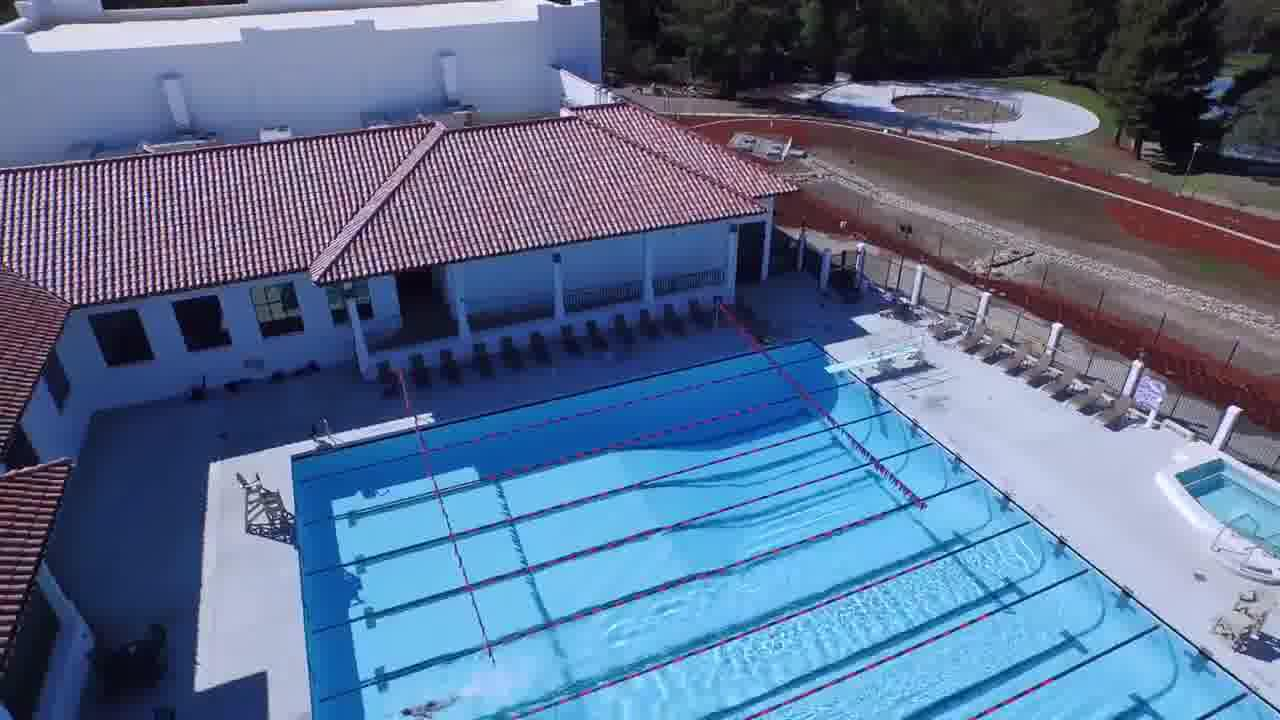swimmer: (388, 698, 461, 716)
